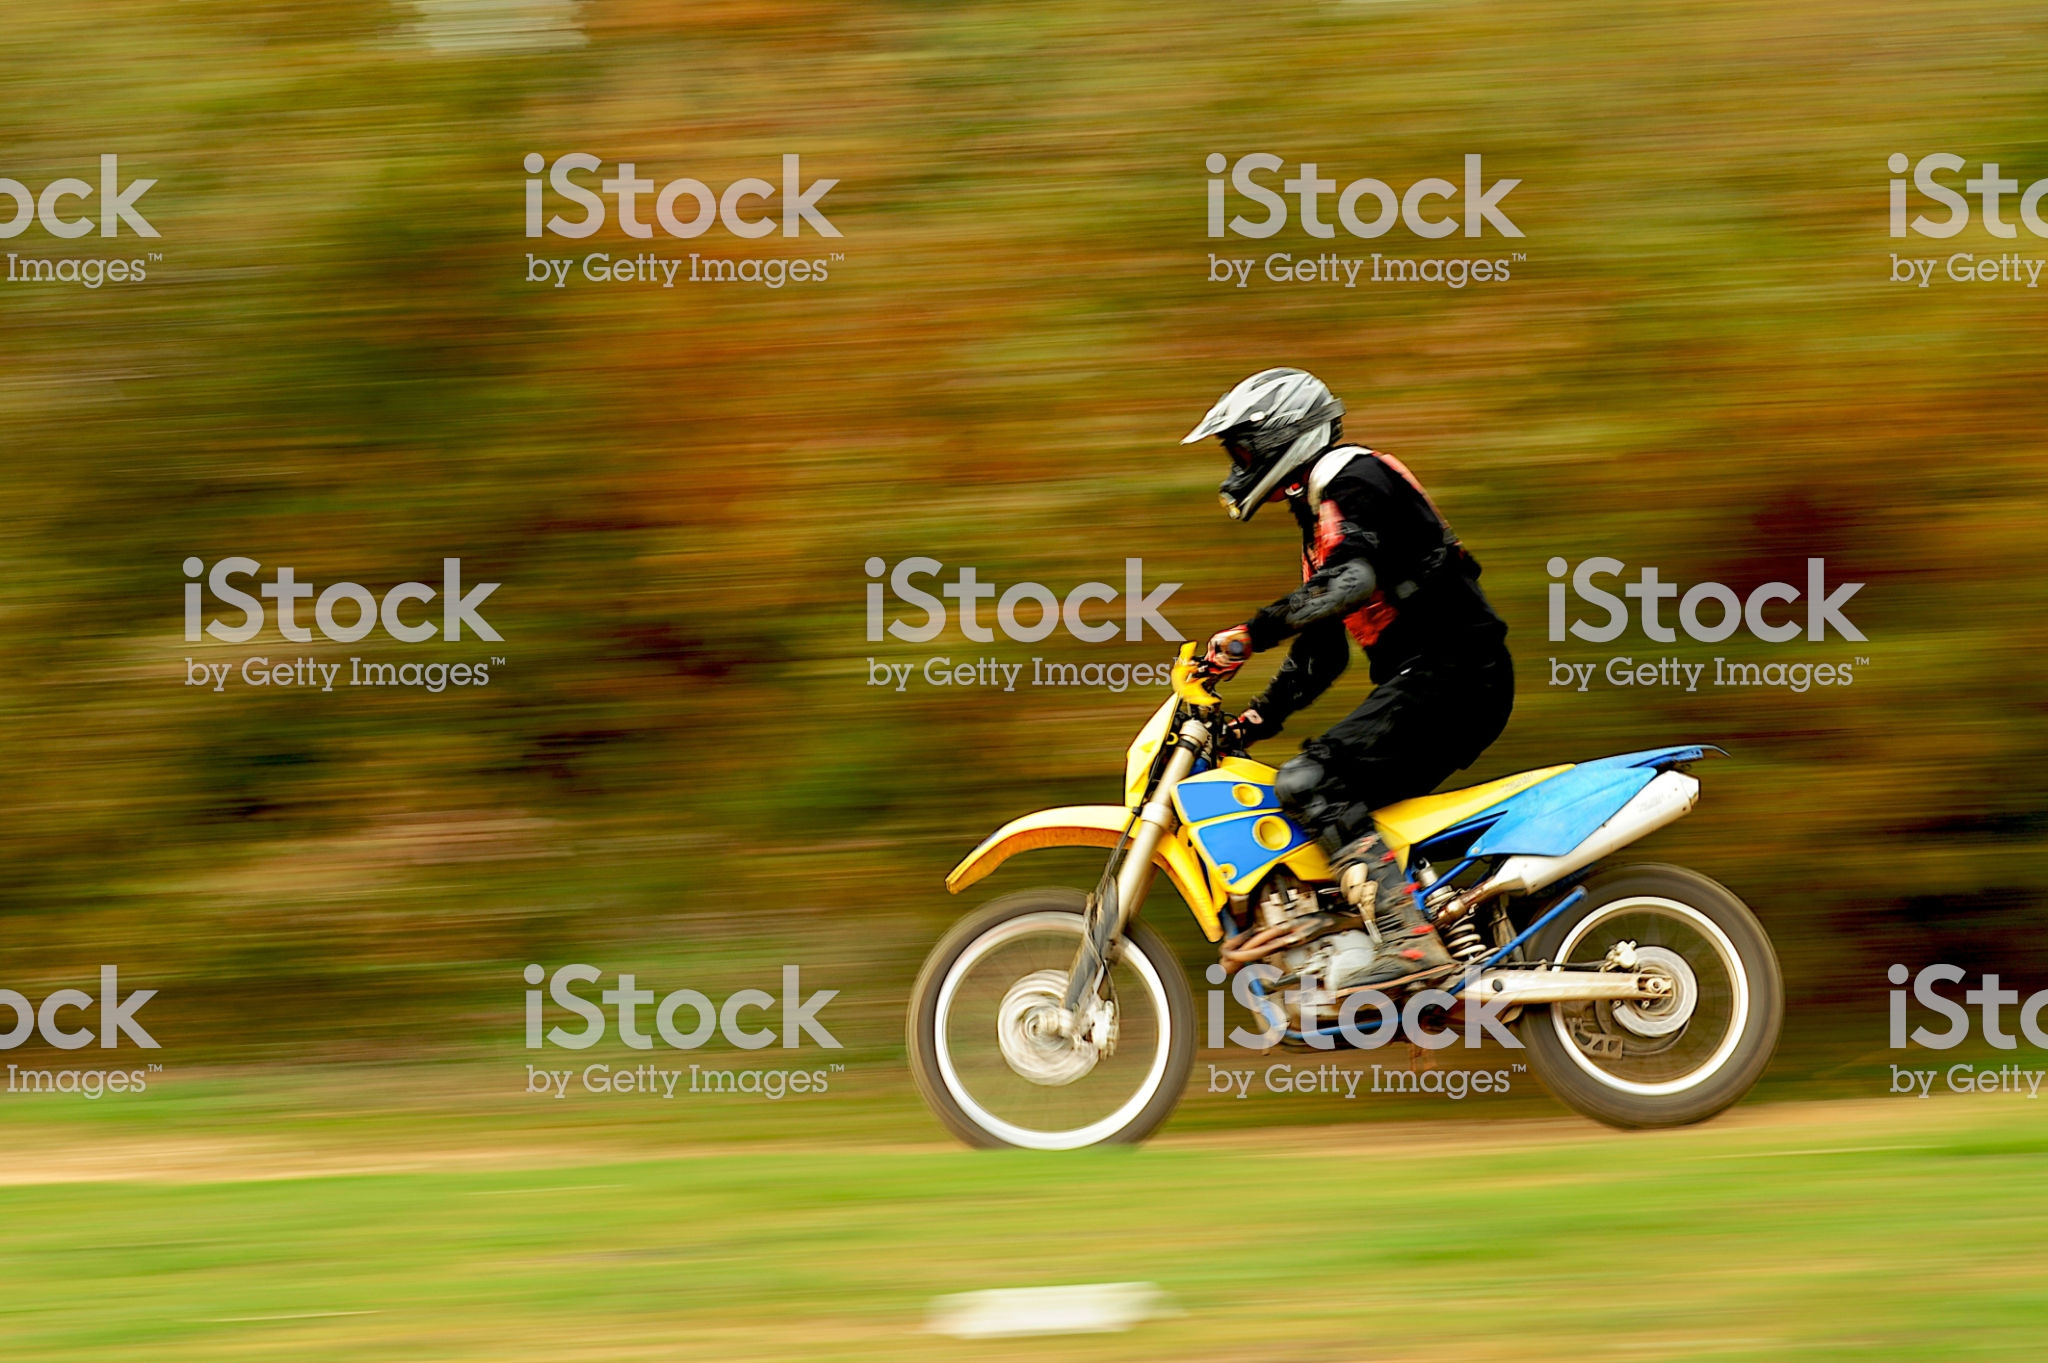helmet: (1178, 373, 1339, 505)
